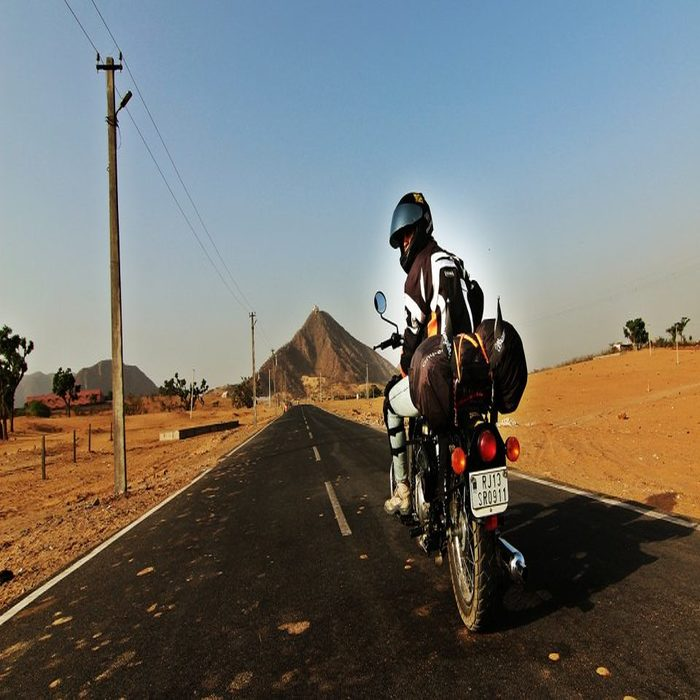h: (387, 191, 435, 276)
n: (467, 462, 510, 519)
